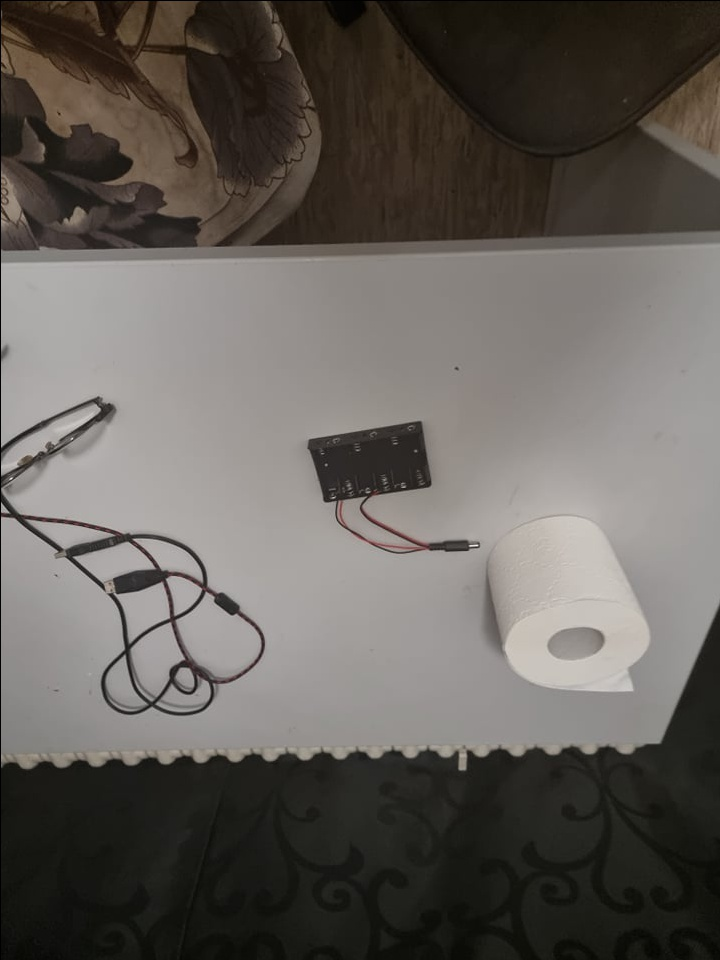BATTERY BOX: (303, 419, 439, 498)
